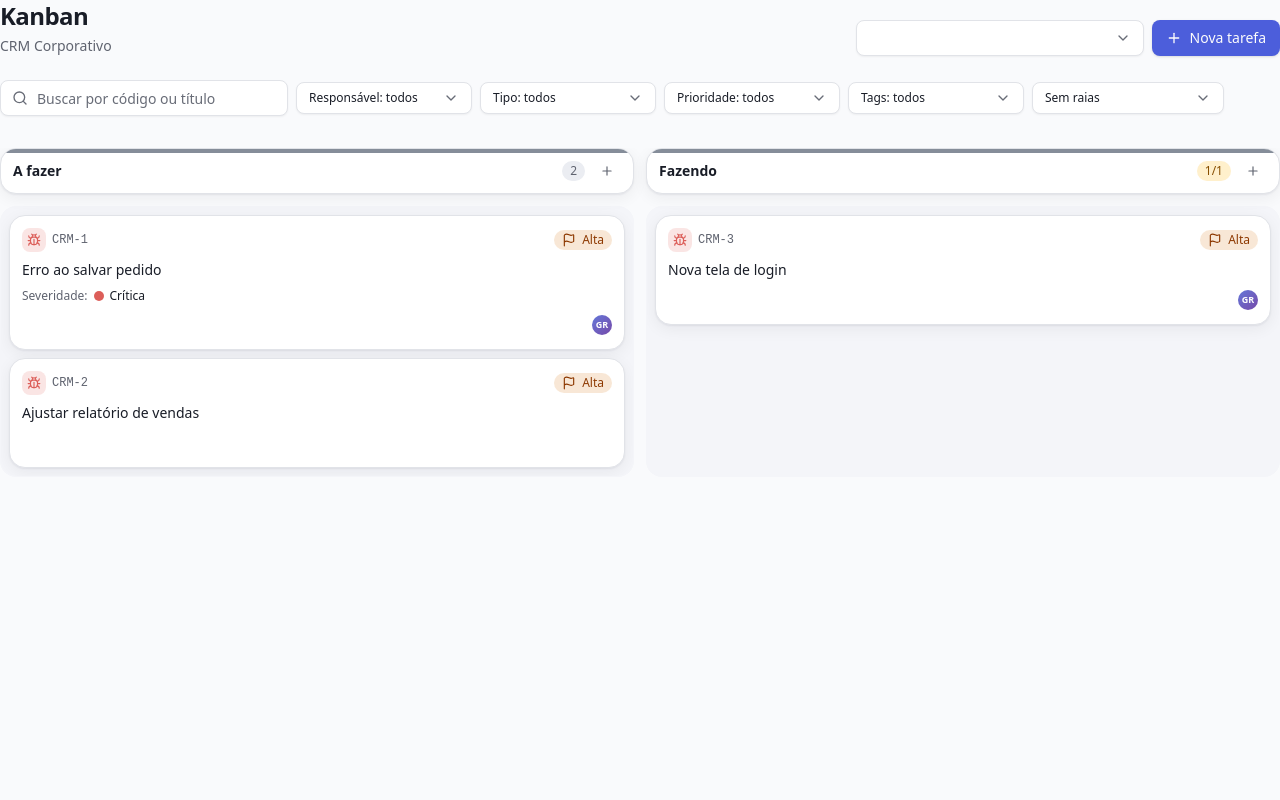
Test: KanbanPage › tipo com campo obrigatório continua no formulário completo com o título digitado
Click the button named "Criar tarefa em A fazer": coordinates (607, 171) [593,157,621,185]
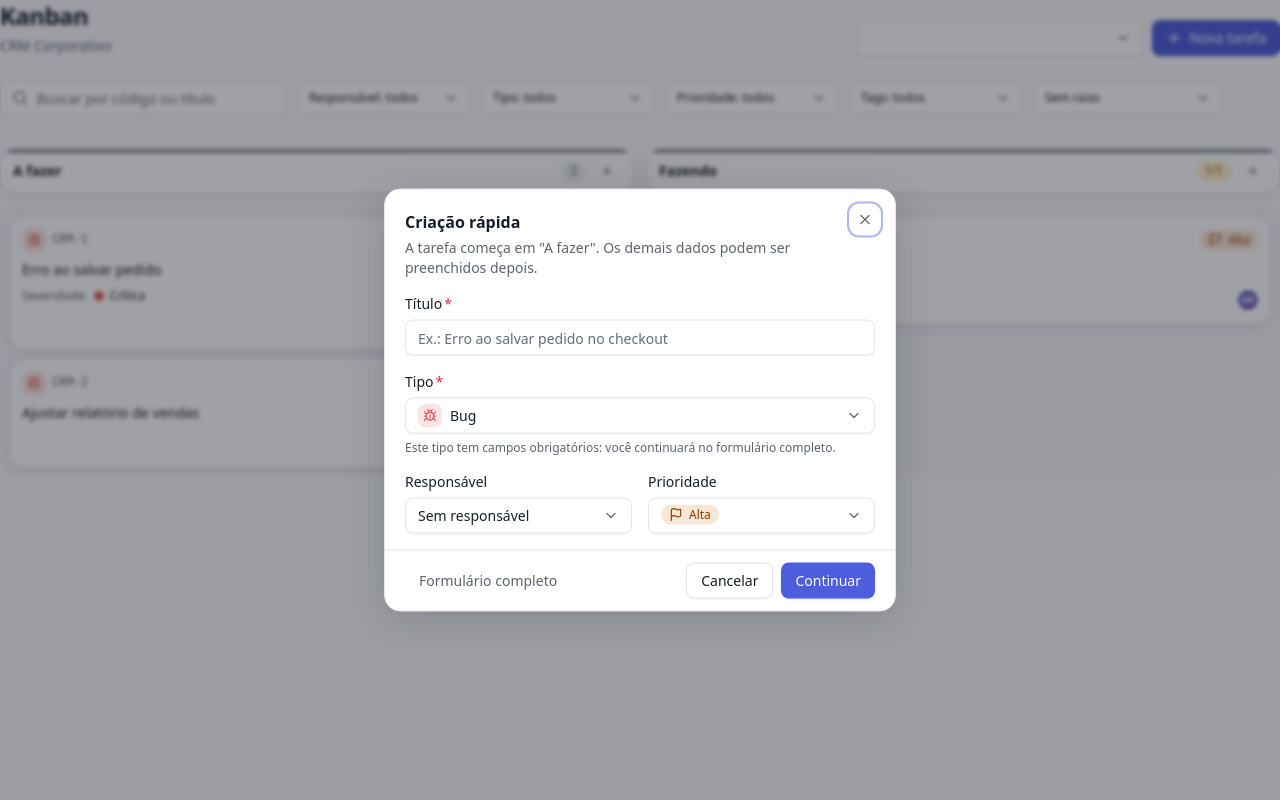
In the field labelled "Título*": coordinates (640, 338) [405,320,875,356], type "Revisar contrato"
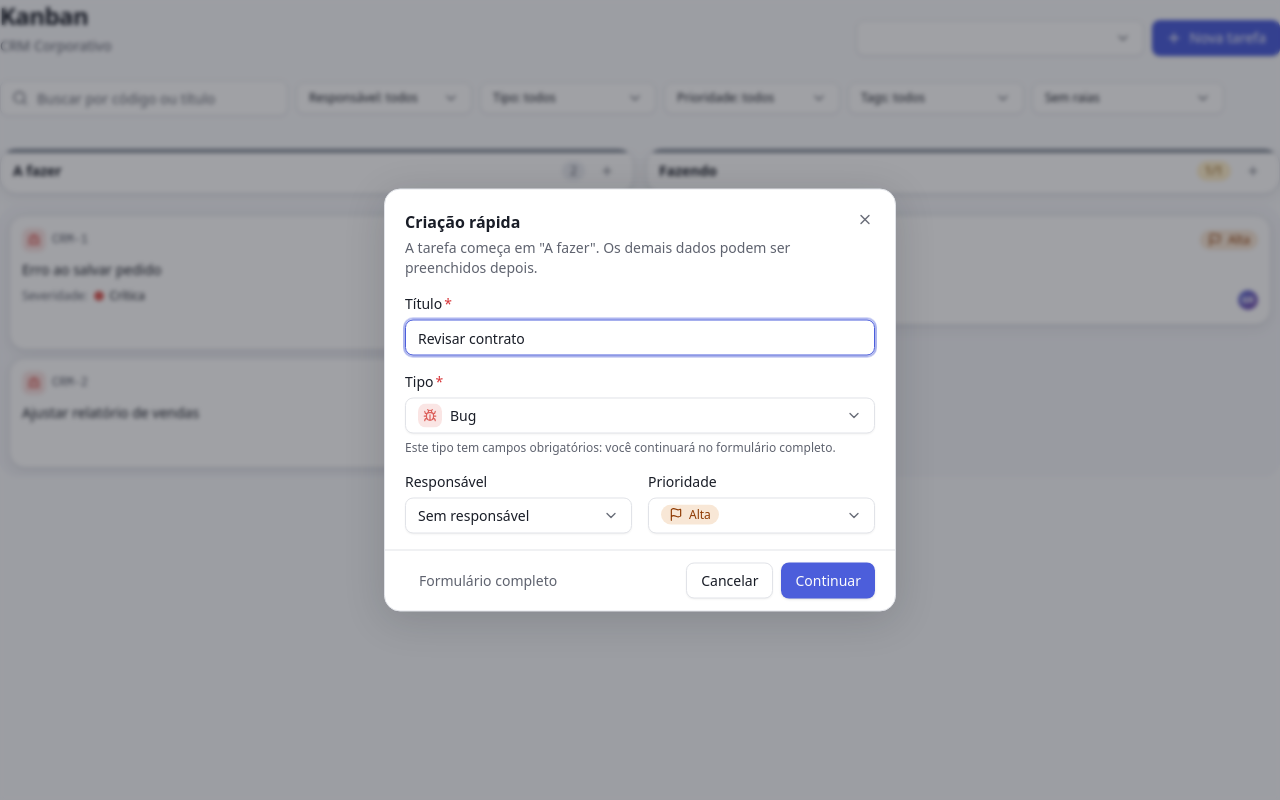
Click the button "Continuar": coordinates (828, 580) [781,562,875,598]
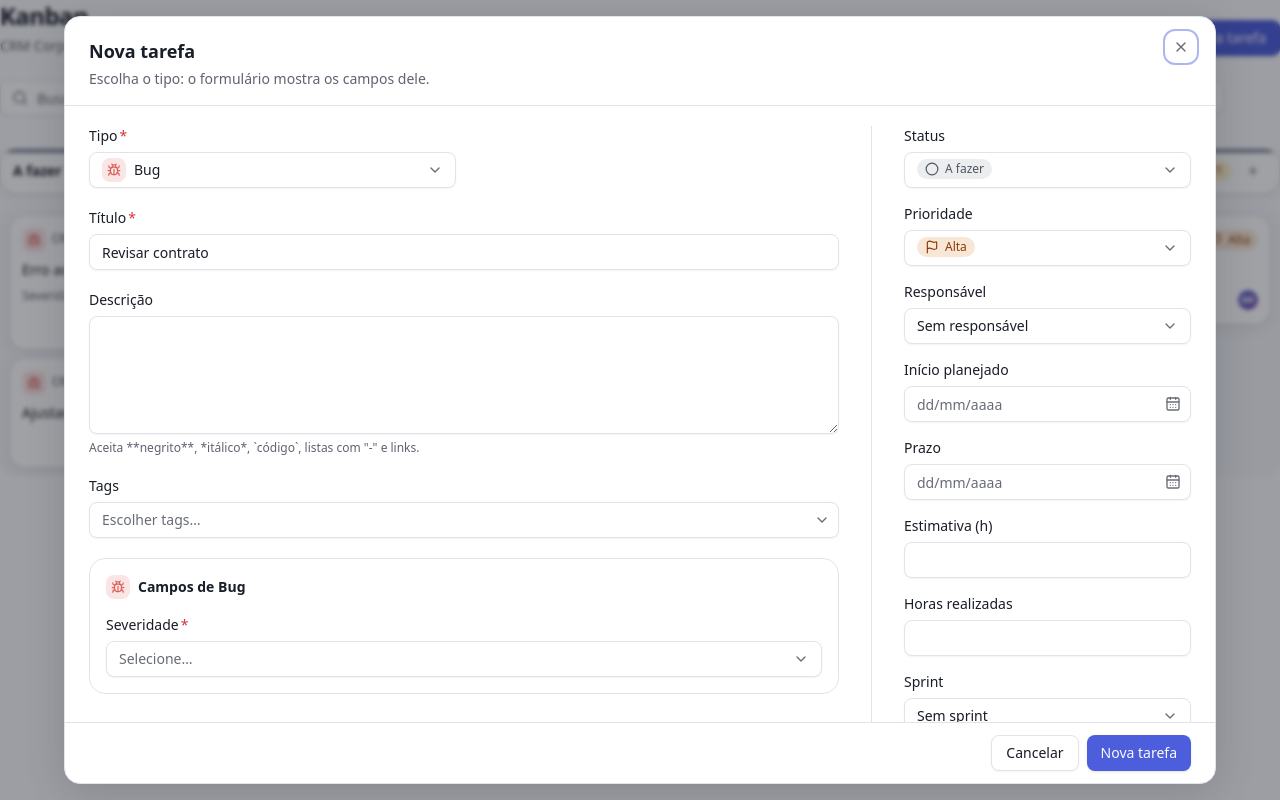
expect the field showing "Revisar contrato" is shown: met, box [89,234,839,270]
expect the dialog "Nova tarefa" is shown: met
